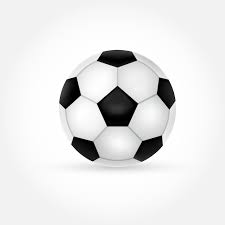football ball: (59, 49, 176, 167)
